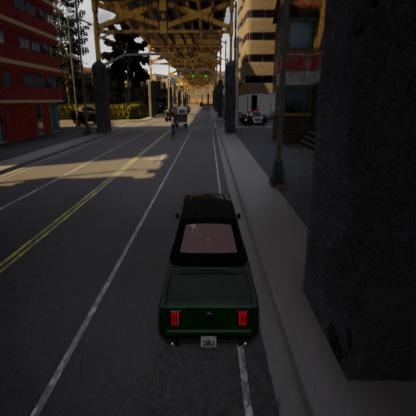Cars: (155, 190, 263, 372), (70, 100, 105, 130), (241, 104, 269, 131), (176, 99, 192, 132)
Pedestrian: (167, 110, 177, 143)
